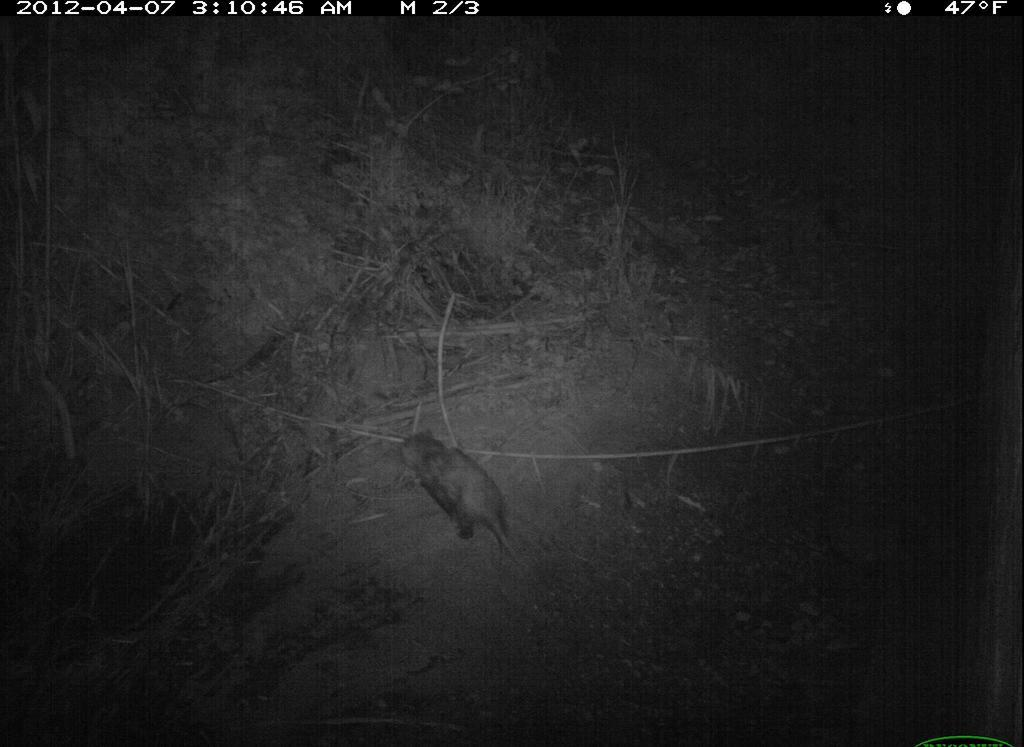opossum: (395, 423, 539, 573)
